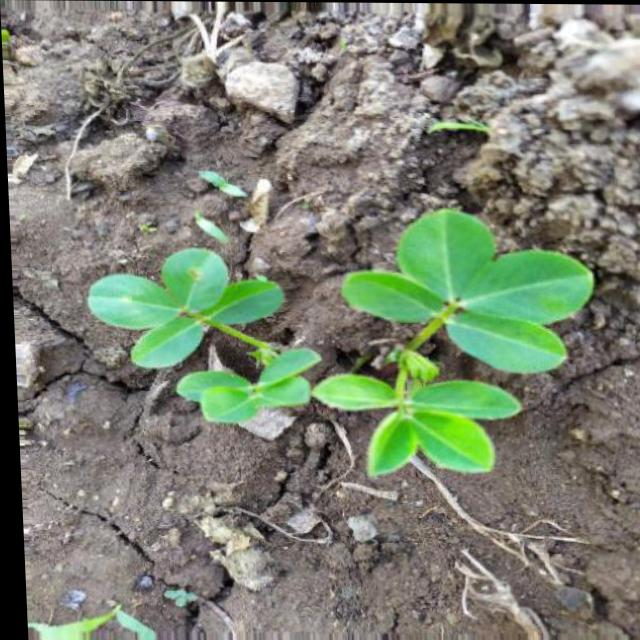weed: (79, 202, 605, 497)
